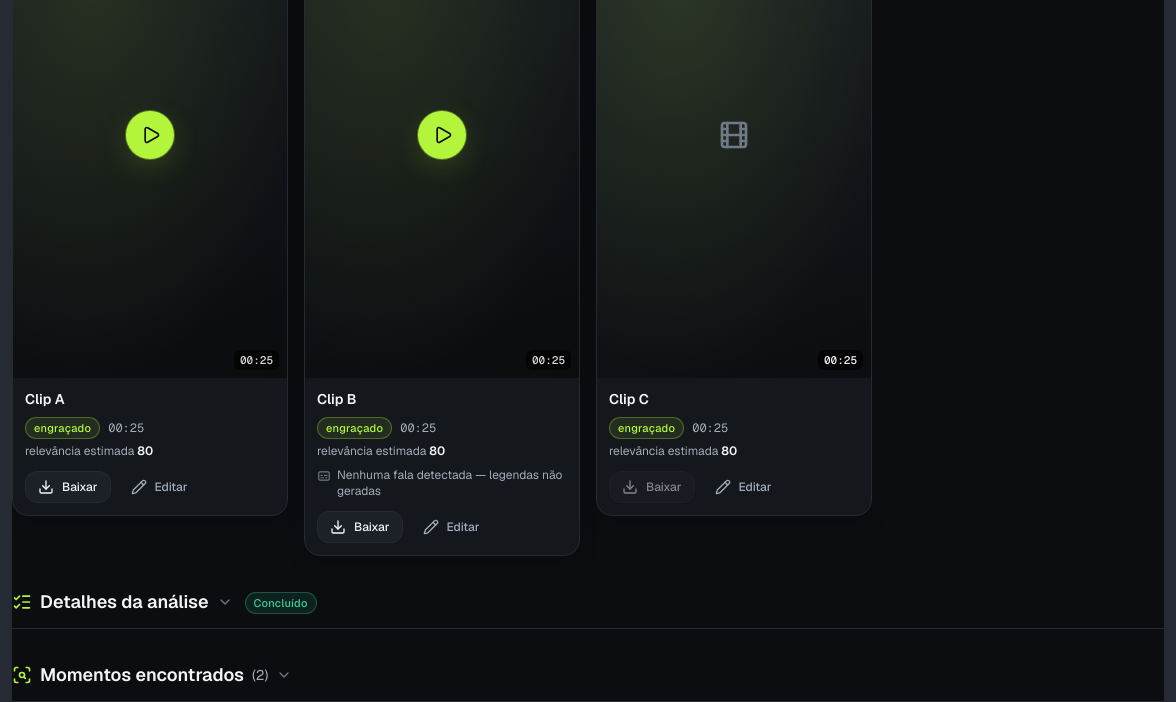
Test: Project results screen › leads with the finished clips and the .zip of all of them; details and moments start collapsed
(page scrolled)
Check: the button with aria-label "Baixar Clip C" is disabled, box left=609, top=471, right=694, bottom=503
Check: the text "Concluído" is shown, box left=244, top=592, right=317, bottom=614
Step 1. Click the button "Detalhes da análise" → point(122, 602), box left=12, top=588, right=232, bottom=616
(page scrolled)
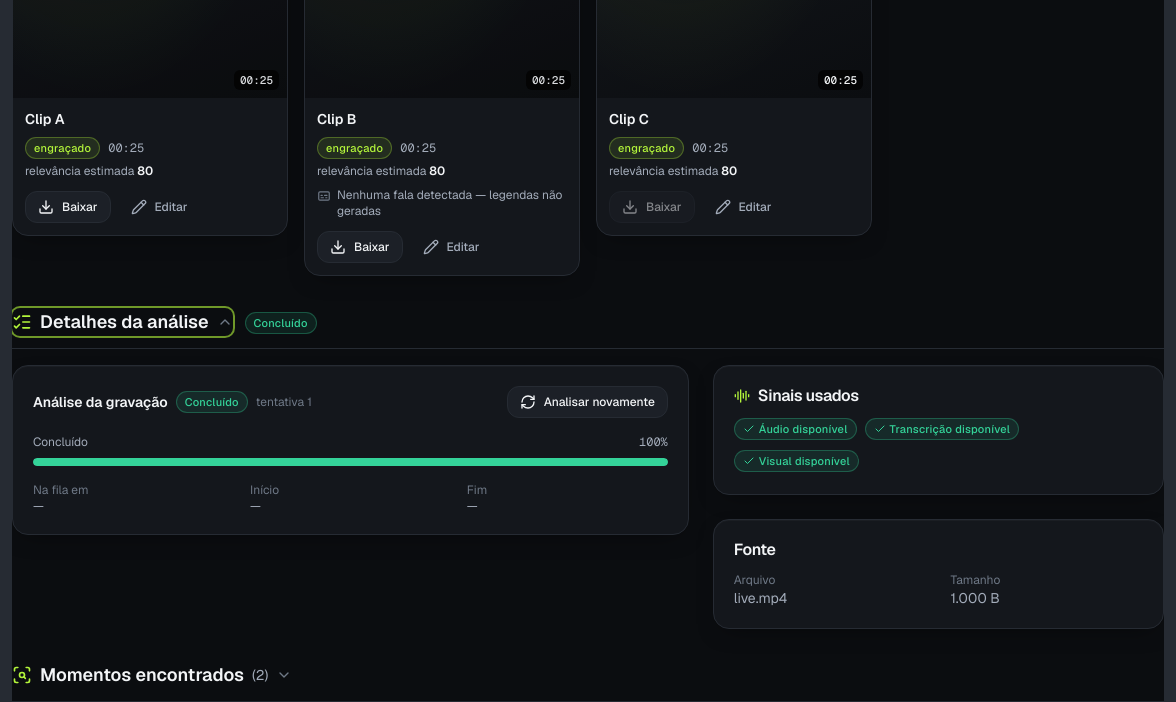
Check: the heading "Análise da gravação" is shown, box left=33, top=392, right=168, bottom=412
Step 2. Click the button "Momentos encontrados (2)" → point(152, 675), box left=12, top=661, right=292, bottom=689
(page scrolled)
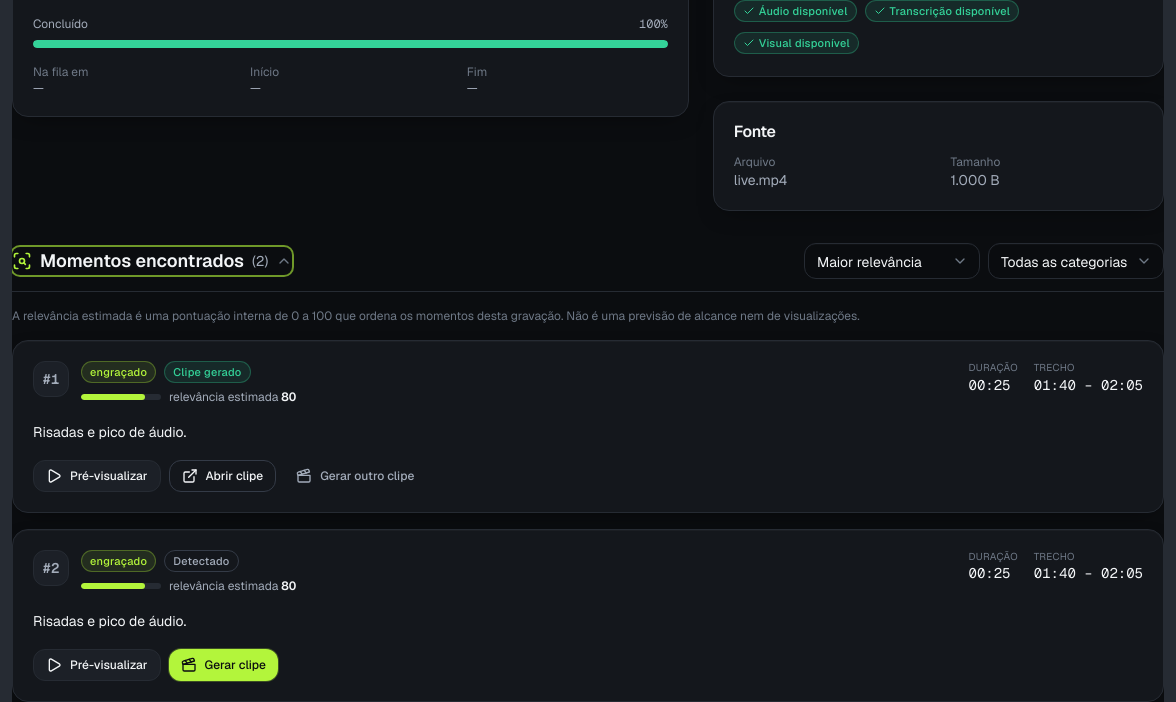
Check: the button "Momentos encontrados (2)" is expanded, box left=12, top=247, right=292, bottom=275
Check: the text "Risadas e pico de áudio." is shown 2 times, box left=33, top=423, right=186, bottom=441; left=33, top=612, right=186, bottom=630
Check: the button "Gerar clipe" is shown, box left=169, top=649, right=278, bottom=681
